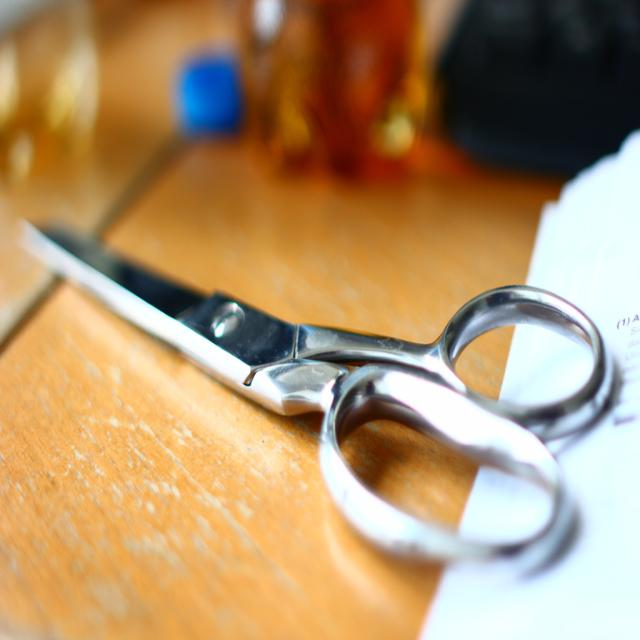scissors: (17, 214, 618, 578)
